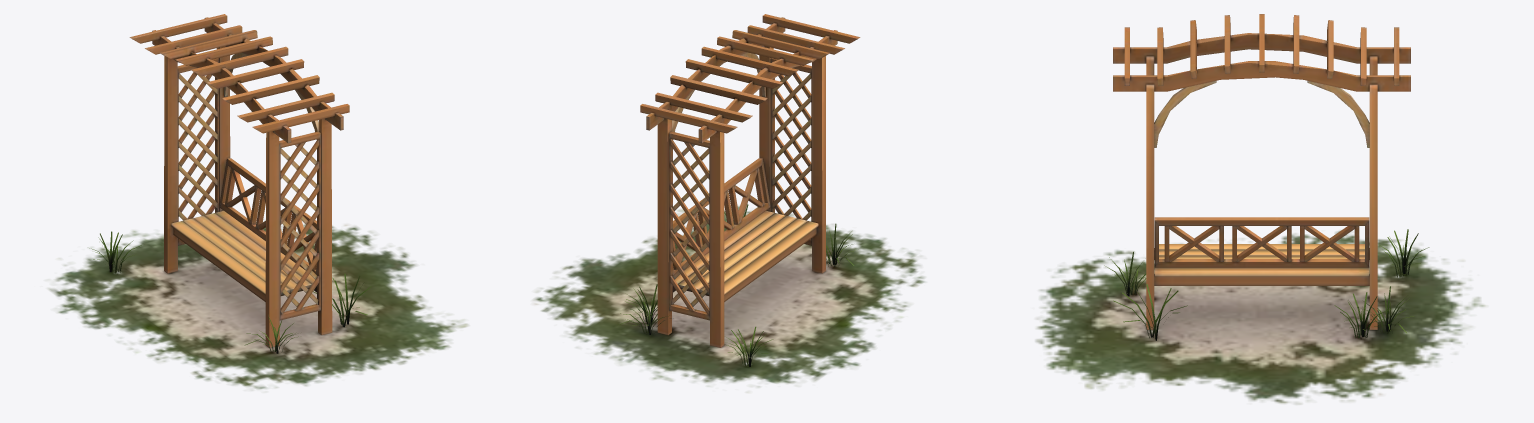
The model's file is bay-pergola.lod1.glb.
3 renders of one model, left to right at view 1: azimuth 30°, elevation 25°; view 2: azimuth 150°, elevation 25°; view 3: azimuth 270°, elevation 25°, orthographic. The views are drawn at different scales.
Visible parts, largest first — view 1: Pergala_UV_ex_Pergala_0, Ground_Unw_Material #60_0; view 2: Pergala_UV_ex_Pergala_0, Ground_Unw_Material #60_0; view 3: Ground_Unw_Material #60_0, Pergala_UV_ex_Pergala_0.
Part boxes in pixels (x1,y1,x2,y2): Pergala_UV_ex_Pergala_0: (129, 14, 349, 347); Ground_Unw_Material #60_0: (48, 223, 468, 390); Pergala_UV_ex_Pergala_0: (640, 14, 860, 347); Ground_Unw_Material #60_0: (533, 204, 924, 392); Ground_Unw_Material #60_0: (1035, 229, 1485, 404); Pergala_UV_ex_Pergala_0: (1113, 14, 1410, 329).
Size of the model in its own units: 4.27 by 2.8 by 4.83.
Materials: 2 (2 with a texture image).
